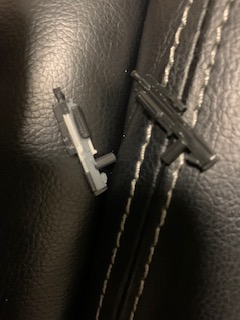rifle: (129, 69, 221, 178), (49, 85, 118, 199)
